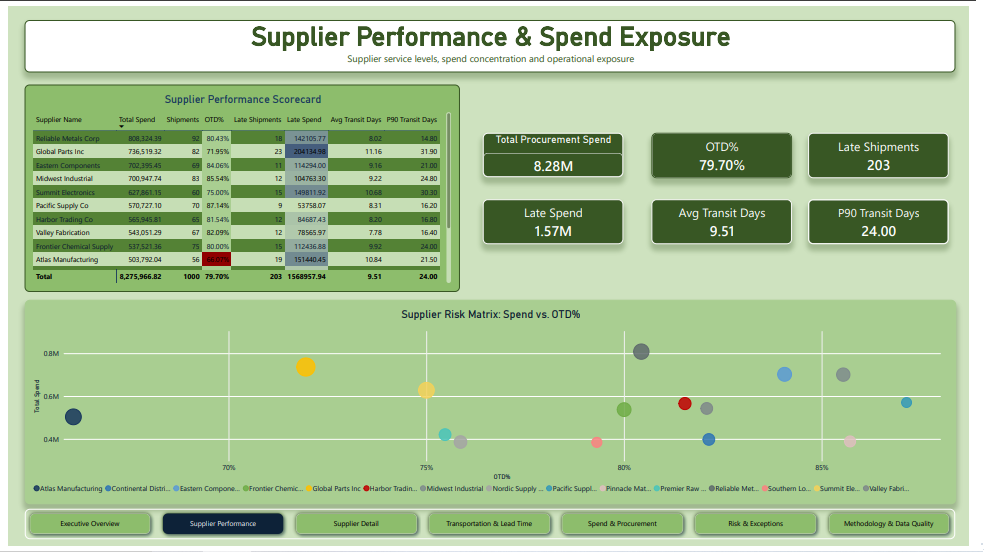

This screenshot's page, from the dashboard's own definition file:
{"tool":"powerbi","page":{"name":"Supplier Performance","canvas":[1920,1080],"ordinal":1},"visuals":[{"type":"cardVisual","fields":{"Data":["_Measures.P90 Transit Days"]},"box":[1598.5,387.2,280,88.6],"z":0},{"type":"scatterChart","title":"Supplier Risk Matrix: Spend vs. OTD%","fields":{"Series":["DimSupplier.Supplier Name"],"Size":["_Measures.Late Spend"],"X":["_Measures.OTD%"],"Y":["_Measures.Total Spend"]},"box":[34,588,1860,407.5],"z":1000},{"type":"textbox","box":[100,100,603.8,300],"z":2000},{"type":"textbox","title":"Supplier Performance & Spend Exposure","box":[32.5,27.5,1860,105],"z":3000},{"type":"cardVisual","fields":{"Data":["_Measures.Late Spend"]},"box":[948.5,387.2,280,88.8],"z":4000},{"type":"cardVisual","fields":{"Data":["_Measures.Late Shipments"]},"box":[1598.5,253.5,280,90],"z":5000},{"type":"cardVisual","fields":{"Data":["_Measures.OTD%"]},"box":[1286,253.5,280,90],"z":6000},{"type":"cardVisual","fields":{"Data":["_Measures.Avg Transit Days"]},"box":[1286,387.2,280,88.8],"z":7000},{"type":"cardVisual","title":"Total Procurement Spend","fields":{"Data":["_Measures.Total Spend"]},"box":[948.5,253.5,280,88.9],"z":8000},{"type":"pivotTable","title":"Supplier Performance Scorecard","fields":{"Rows":["DimSupplier.Supplier Name"],"Values":["_Measures.Total Spend","_Measures.Shipments","_Measures.OTD%","_Measures.Late Shipments","_Measures.Late Spend","_Measures.Avg Transit Days","_Measures.P90 Transit Days"]},"box":[33,157,870,415],"z":9000},{"type":"pageNavigator","box":[34,1006,1858,60],"z":10000}]}

Visuals, with their boxes in screenshot pixels (x1, y1, x2, y2), scaled from the page's 1920x1080 canvas onto the 984x552 screenshot:
cardVisual - _Measures.P90 Transit Days: x1=819 y1=198 x2=963 y2=243
"Supplier Risk Matrix: Spend vs. OTD%" scatterChart: x1=17 y1=301 x2=971 y2=509
textbox: x1=51 y1=51 x2=361 y2=204
"Supplier Performance & Spend Exposure" textbox: x1=17 y1=14 x2=970 y2=68
cardVisual - _Measures.Late Spend: x1=486 y1=198 x2=630 y2=243
cardVisual - _Measures.Late Shipments: x1=819 y1=130 x2=963 y2=176
cardVisual - _Measures.OTD%: x1=659 y1=130 x2=803 y2=176
cardVisual - _Measures.Avg Transit Days: x1=659 y1=198 x2=803 y2=243
"Total Procurement Spend" cardVisual: x1=486 y1=130 x2=630 y2=175
"Supplier Performance Scorecard" pivotTable: x1=17 y1=80 x2=463 y2=292
pageNavigator: x1=17 y1=514 x2=970 y2=545
